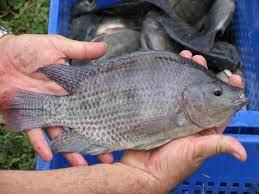Tilapia: (3, 49, 249, 154)
